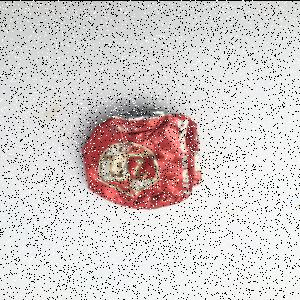Can: (81, 109, 203, 211)
